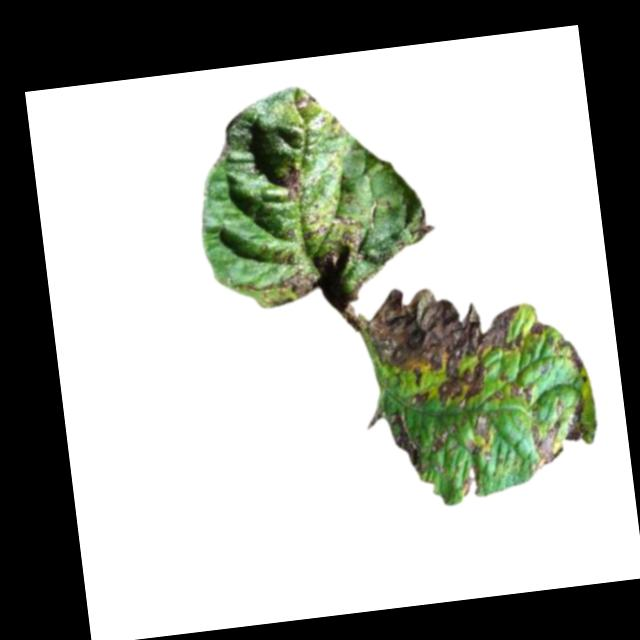Early_blight: (363, 272, 535, 417), (238, 206, 377, 306), (363, 408, 427, 481), (527, 413, 566, 470), (560, 393, 593, 442), (275, 162, 304, 203), (427, 422, 459, 457), (456, 462, 486, 499), (566, 336, 588, 385), (472, 411, 496, 445), (508, 380, 537, 406), (529, 319, 550, 335), (465, 438, 482, 455), (293, 92, 310, 109)
